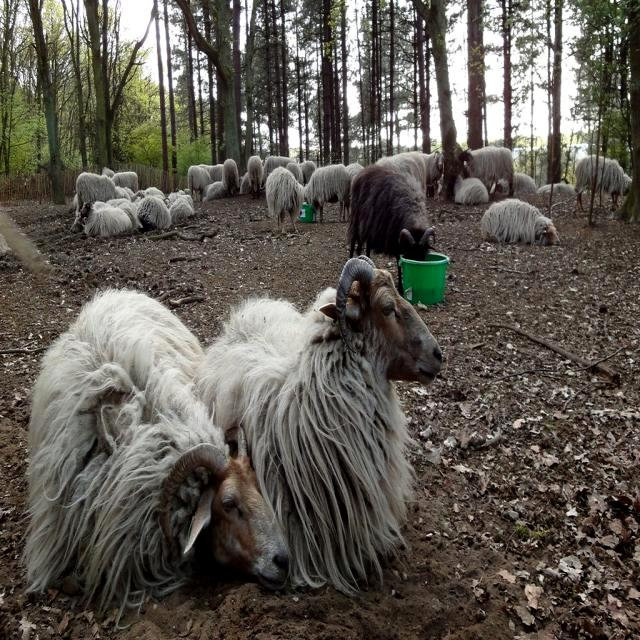sheep: (198, 252, 442, 596), (24, 298, 275, 606)
